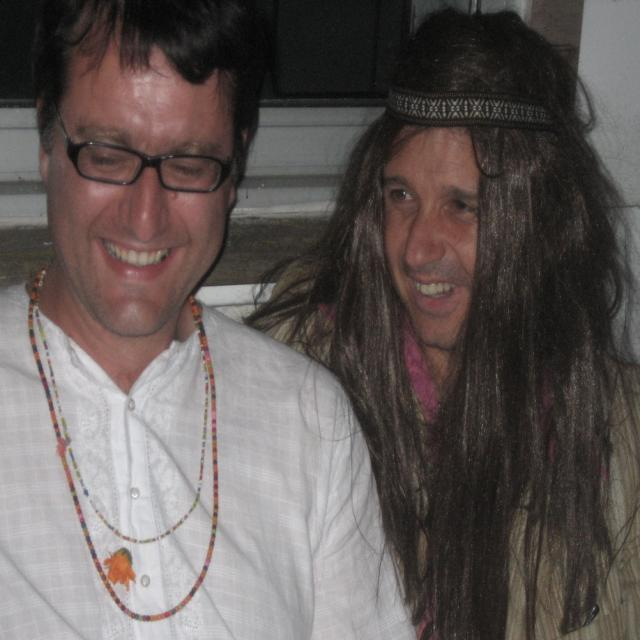Glasses: (42, 118, 243, 196)
